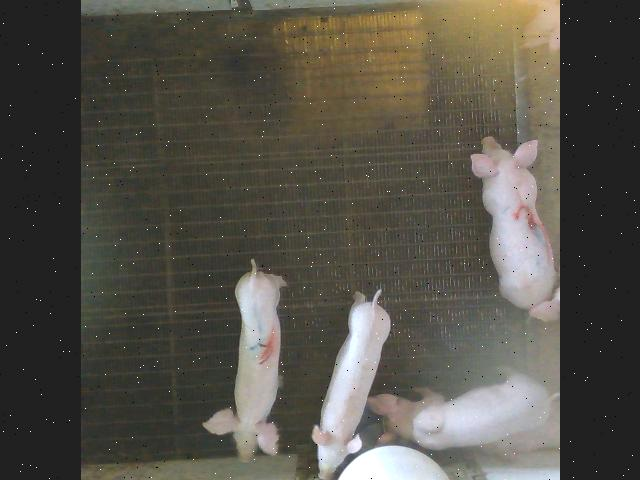pig-3: (470, 136, 555, 310)
pig-4: (201, 259, 284, 461)
